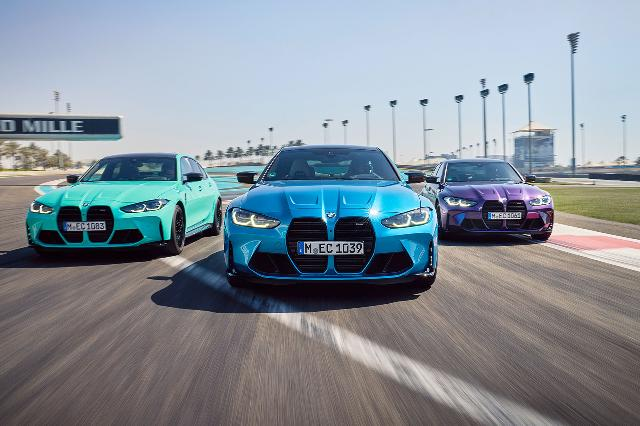bmw: (224, 144, 438, 296), (24, 152, 222, 256), (420, 158, 556, 242)
